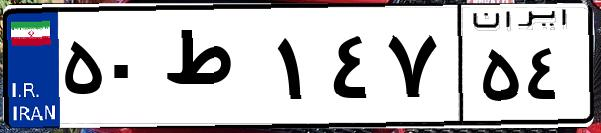0: (110, 28, 158, 98)
1: (270, 28, 330, 110)
4: (330, 28, 385, 110), (525, 38, 570, 115)
5: (57, 26, 110, 100), (475, 38, 525, 113)
7: (385, 28, 445, 110)
ط: (158, 20, 270, 120)
